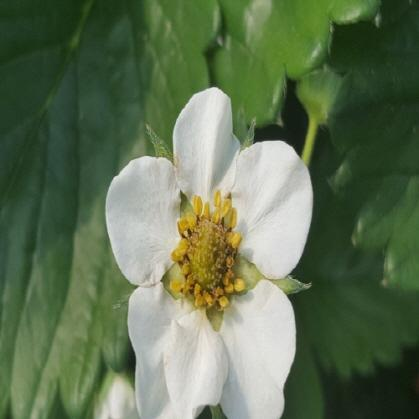Blossom Blight: (165, 186, 250, 312)
